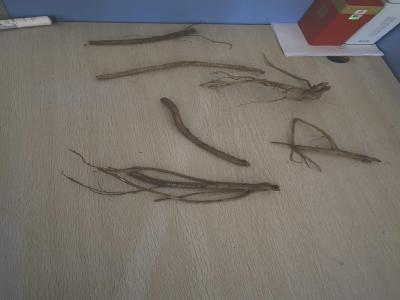Root: (69, 150, 280, 203), (160, 98, 251, 167), (210, 68, 330, 100), (96, 61, 265, 79), (277, 139, 380, 162), (89, 25, 198, 45), (180, 116, 182, 119)
